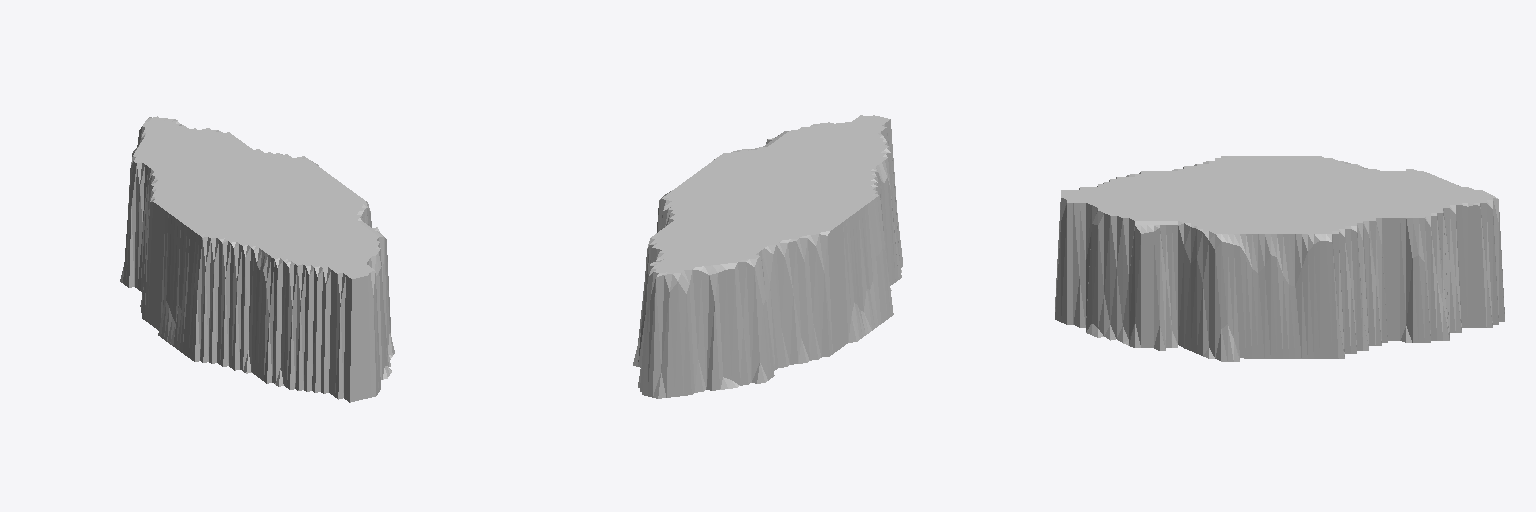
The model's file is moba3v3_Terrain.obj.
The picture shows the model from 3 angles: view 1: azimuth 30°, elevation 25°; view 2: azimuth 150°, elevation 25°; view 3: azimuth 270°, elevation 25°; orthographic projection.
Parts seen in each view (by area): view 1: default; view 2: default; view 3: default.
Boxes of the visible parts, x1=… form: default: x1=120, y1=116, x2=394, y2=402; default: x1=633, y1=115, x2=902, y2=398; default: x1=1055, y1=156, x2=1504, y2=361.
Bounding box in the file's own units: 19.48 × 11.94 × 40.63.